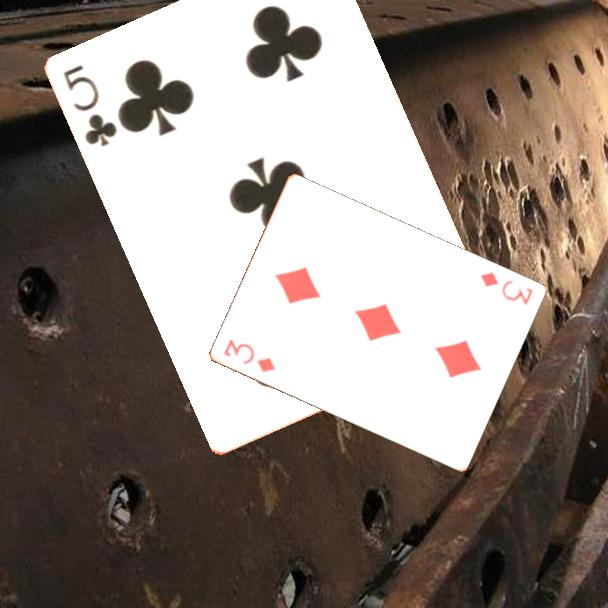c05: (60, 61, 121, 150)
d03: (476, 268, 536, 308), (220, 336, 278, 376)
